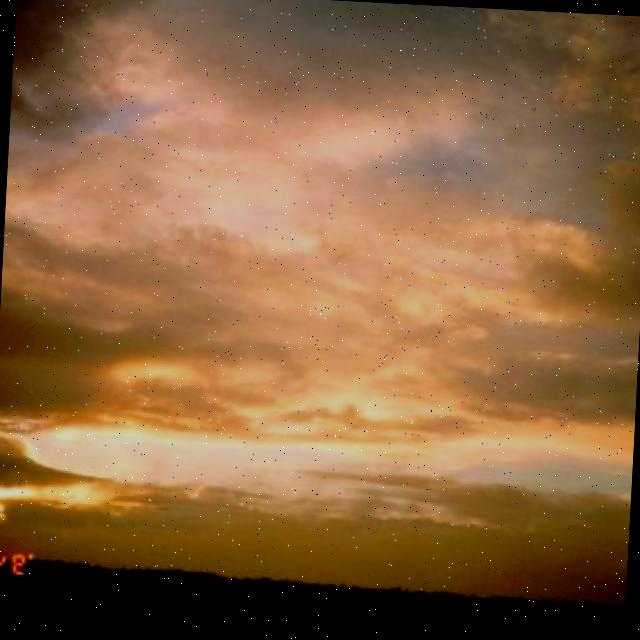Ns: (1, 1, 640, 520)
